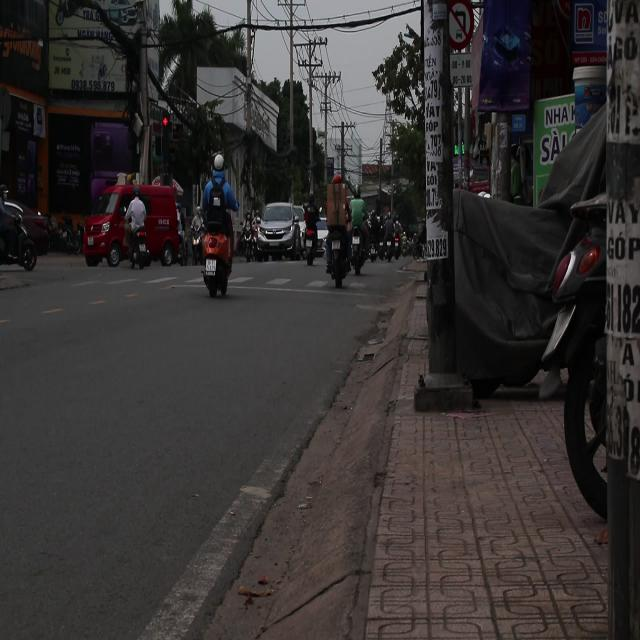car: (78, 176, 188, 284), (0, 193, 50, 269), (253, 203, 308, 263)
motorbike: (121, 185, 153, 272), (200, 218, 235, 297), (329, 215, 352, 291), (351, 212, 374, 273), (189, 206, 210, 263)
